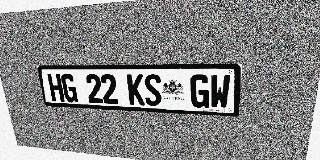2: (100, 74, 118, 104), (85, 74, 103, 103)
G: (190, 74, 210, 108), (60, 74, 78, 102)
H: (47, 74, 65, 102)
K: (127, 74, 145, 105)
S: (144, 74, 162, 106)
W: (210, 74, 231, 109)
